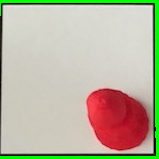Red Bishop: (82, 83, 151, 154)
